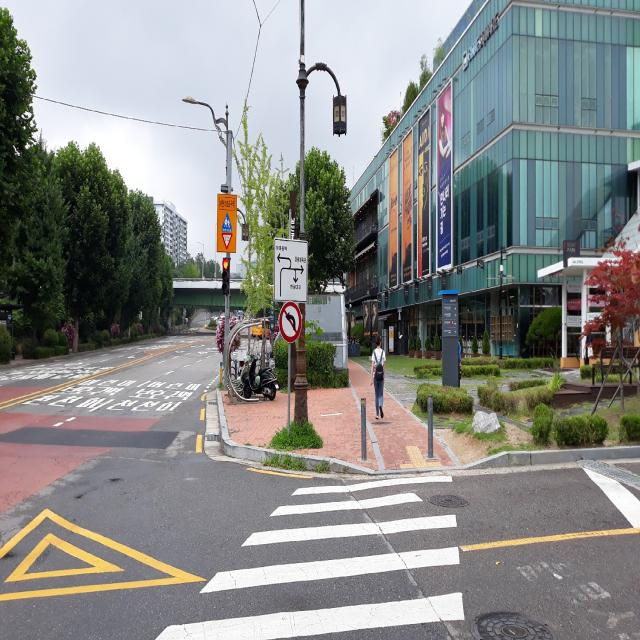횡단보도: (155, 473, 466, 640)
